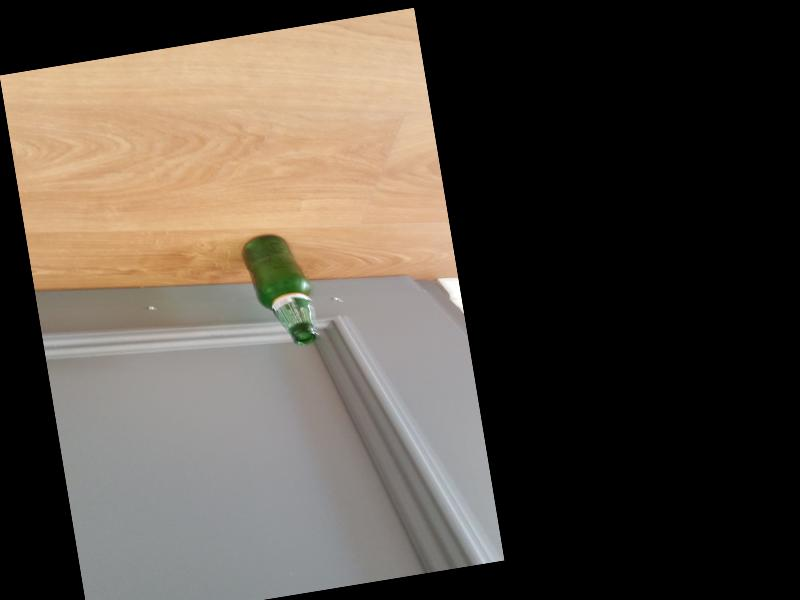Beer: (241, 229, 317, 350)
